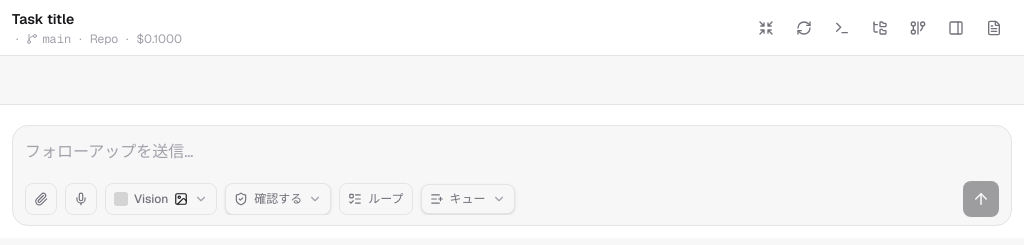
Test case: TaskView › disables image attachment controls after switching to a text-only model
Expected: the button named "画像を添付" is shown, [25,183,57,215]
Step 1. Click the dropdown named "モデル" → (161, 199), box [105,183,217,215]
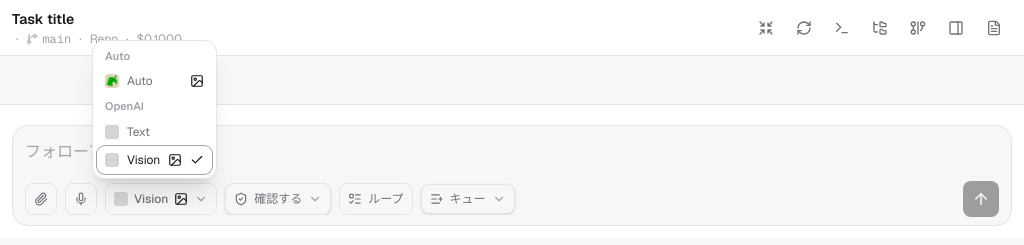
Step 2. Click the option "Text" → (155, 132), box [97,118,212,146]
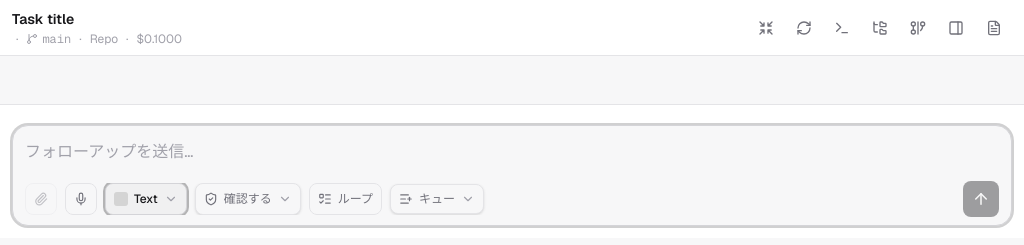
Now the button named "画像を添付" is disabled, box [25,183,57,215]
